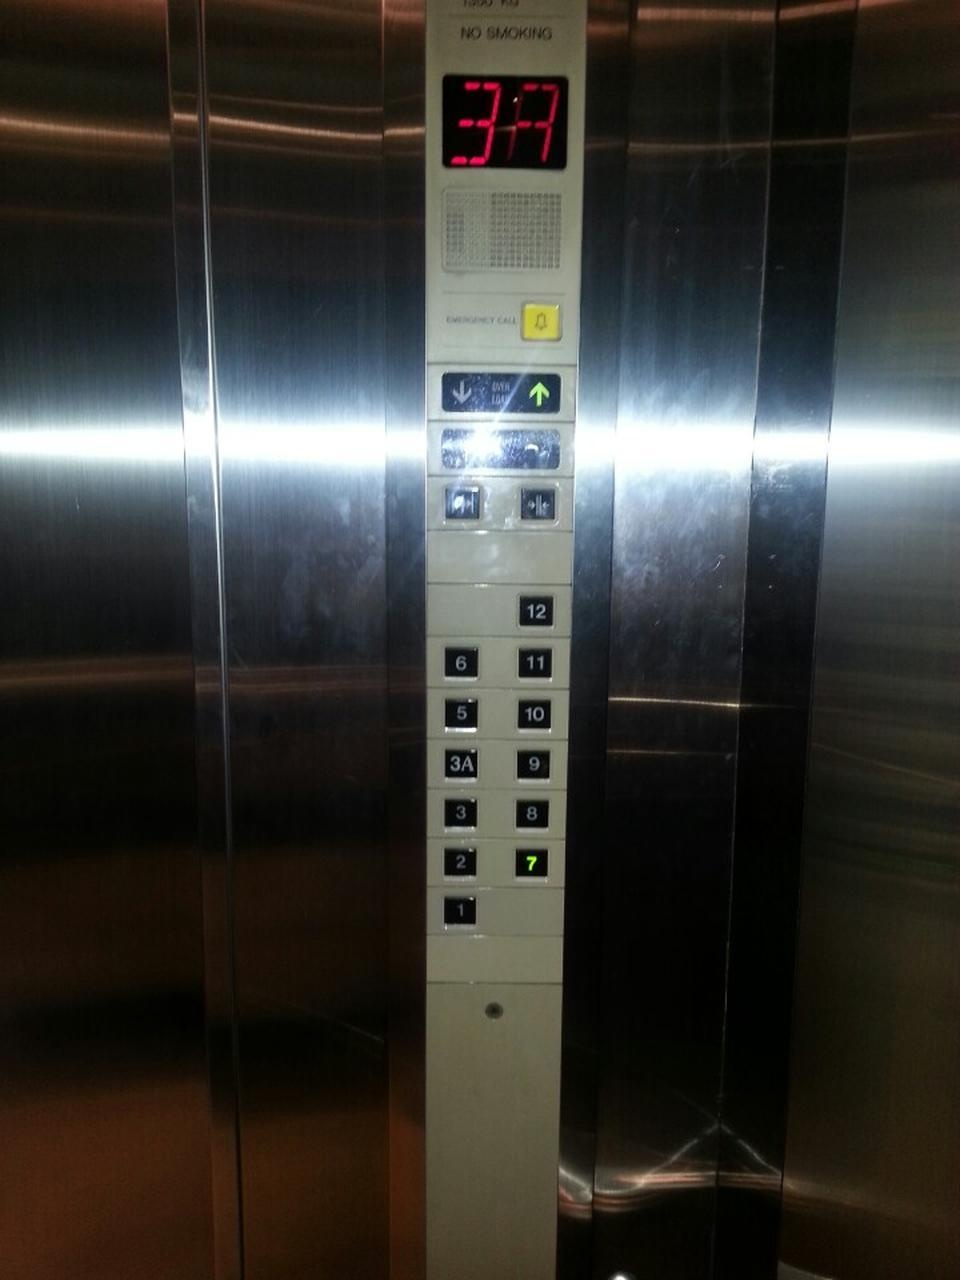1: (442, 893, 478, 926)
10: (516, 696, 553, 731)
11: (517, 644, 554, 680)
12: (517, 591, 556, 629)
2: (442, 845, 478, 877)
3: (443, 796, 479, 829)
3A: (443, 746, 480, 780)
5: (443, 695, 480, 732)
6: (442, 642, 481, 681)
7: (513, 845, 551, 878)
8: (514, 796, 551, 829)
9: (515, 747, 552, 781)
alarm: (521, 301, 563, 342)
close: (519, 485, 559, 522)
led: (433, 66, 572, 179)
open: (442, 481, 485, 522)
